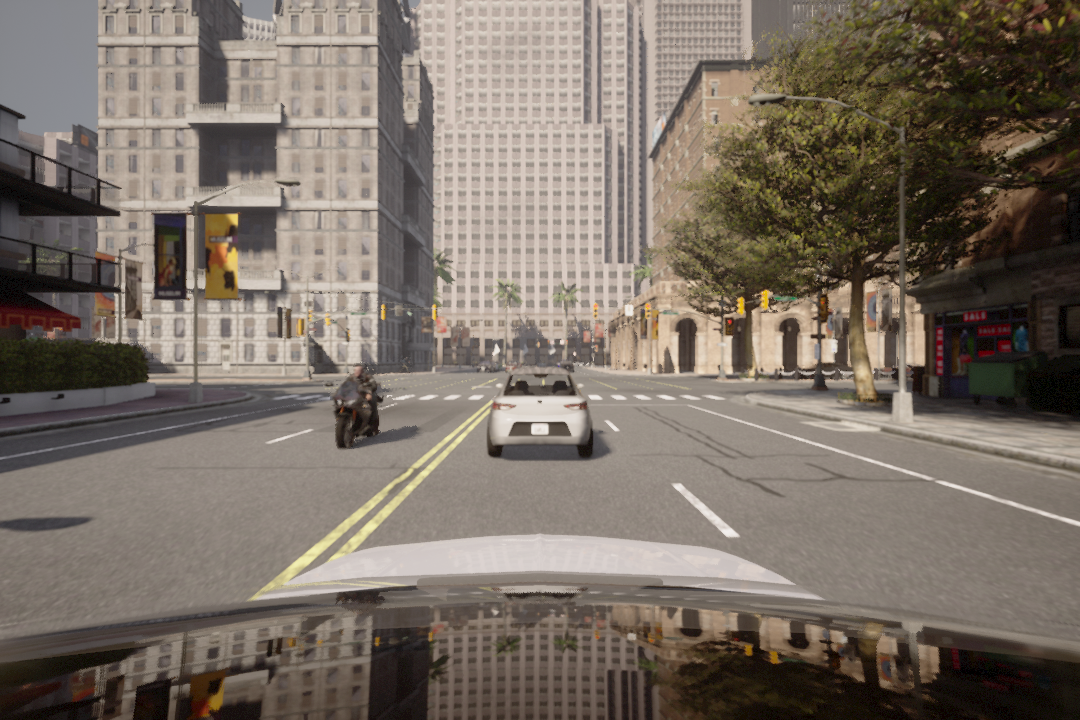walkside: (257, 390, 746, 410)
